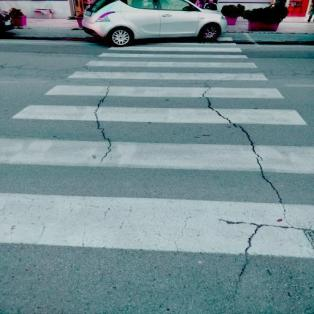Paso de Cebra: (6, 83, 314, 130), (78, 52, 265, 71)
